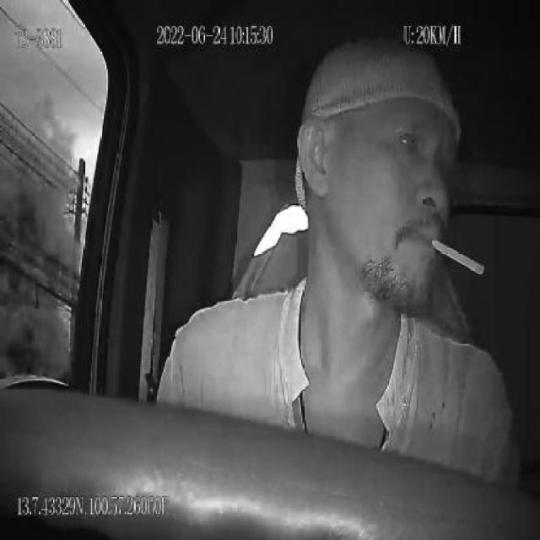smoking: (431, 235, 487, 281)
